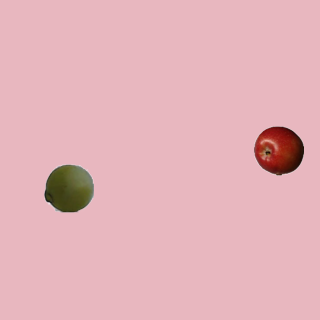Apple Braeburn: (253, 125, 303, 175)
Grape White 4: (43, 162, 93, 212)
